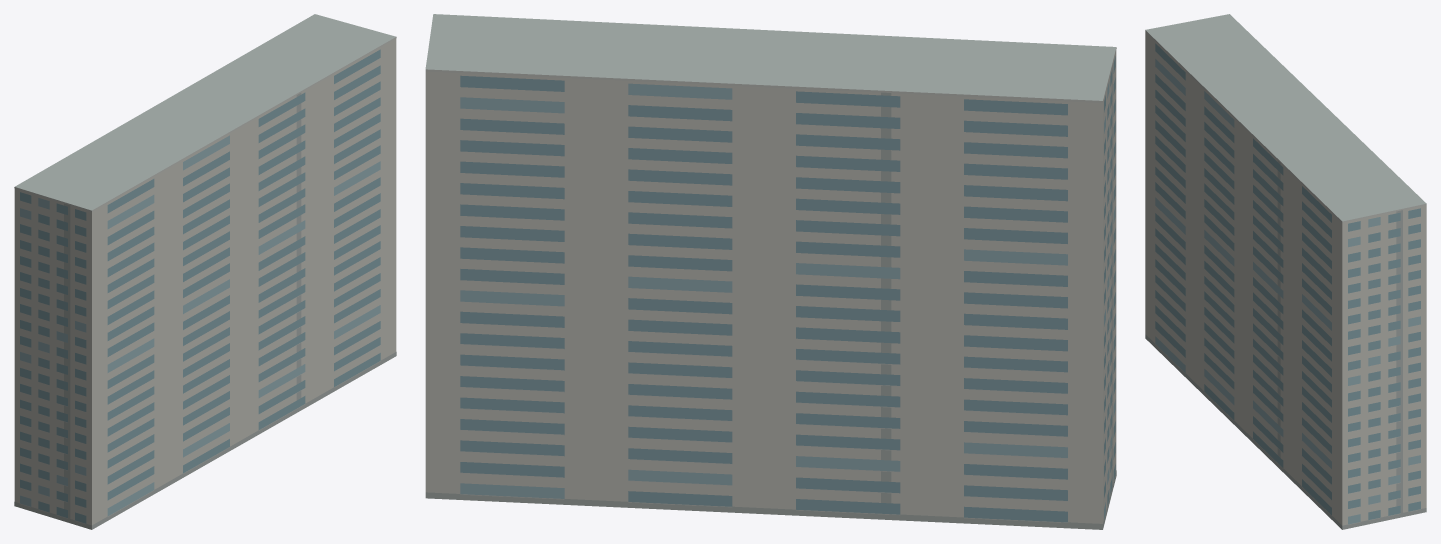
The model's file is residential-9b27199a-94f5-4f53-89f2-ac048714a72d.glb.
3 renders of one model, left to right at view 1: azimuth 30°, elevation 25°; view 2: azimuth 150°, elevation 25°; view 3: azimuth 270°, elevation 25°, orthographic. The views are drawn at different scales.
Parts seen in each view (by area): view 1: residential-9b27199a-94f5-4f53-89f2-ac048714a72d.tmp; view 2: residential-9b27199a-94f5-4f53-89f2-ac048714a72d.tmp; view 3: residential-9b27199a-94f5-4f53-89f2-ac048714a72d.tmp.
Part boxes in pixels (<box>): residential-9b27199a-94f5-4f53-89f2-ac048714a72d.tmp: <box>14,14,396,529</box>; residential-9b27199a-94f5-4f53-89f2-ac048714a72d.tmp: <box>425,14,1116,529</box>; residential-9b27199a-94f5-4f53-89f2-ac048714a72d.tmp: <box>1145,14,1426,529</box>.
Size of the model in its own units: 77.91 by 54 by 44.66.
